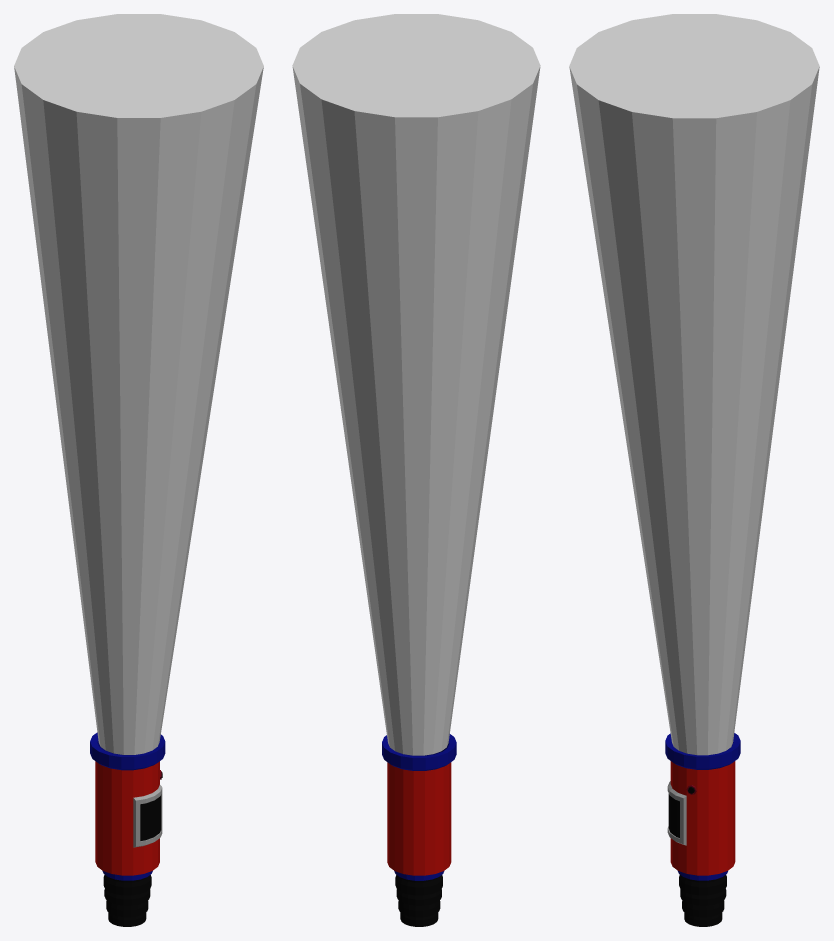
File: VacuumNozzle.fbx
The picture shows the model from 3 angles, left to right: view 1: azimuth 30°, elevation 25°; view 2: azimuth 150°, elevation 25°; view 3: azimuth 270°, elevation 25°; orthographic projection.
Visible parts, largest first — view 1: VacuumRange, VacuumNozzle; view 2: VacuumRange, VacuumNozzle; view 3: VacuumRange, VacuumNozzle.
Boxes of the visible parts, left/top/right/bottom form: VacuumRange: left=14, top=14, right=263, bottom=754; VacuumNozzle: left=90, top=732, right=165, bottom=926; VacuumRange: left=292, top=14, right=540, bottom=755; VacuumNozzle: left=382, top=734, right=456, bottom=926; VacuumRange: left=569, top=14, right=819, bottom=755; VacuumNozzle: left=665, top=733, right=740, bottom=926.
Size of the model in its own units: 52.34 by 201 by 53.15.
